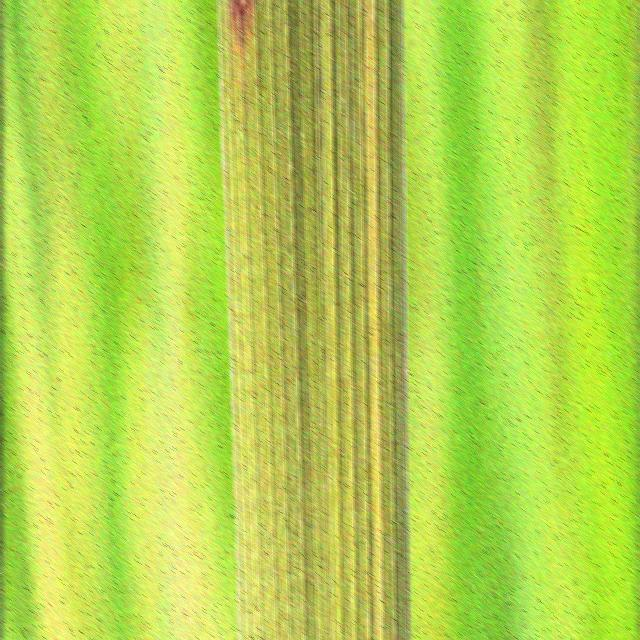LEAF BLAST: (228, 0, 253, 47)
